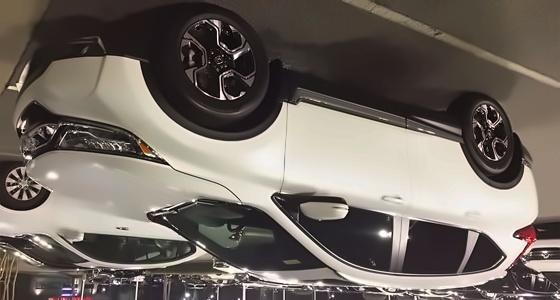Car hood: (22, 147, 242, 230)
Driver-s door - -F-R-: (289, 95, 401, 286)
Fender - -F-R-: (166, 78, 289, 210)
Fender - -R-R-: (476, 160, 524, 229)
Front bumper: (7, 26, 172, 131)
Headlight - -R-: (52, 118, 171, 163), (506, 219, 538, 273)
Passenger-s door - -R-R-: (401, 126, 477, 284)
Rear bumper: (511, 129, 544, 199)
Side bumper - -R-: (270, 77, 467, 146)
Side mirror - -R-: (283, 193, 356, 226)
